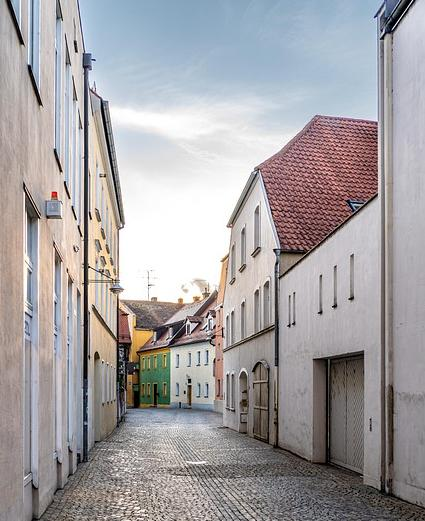casa: (222, 162, 278, 441), (91, 95, 119, 444), (175, 338, 217, 413), (136, 336, 172, 408)
